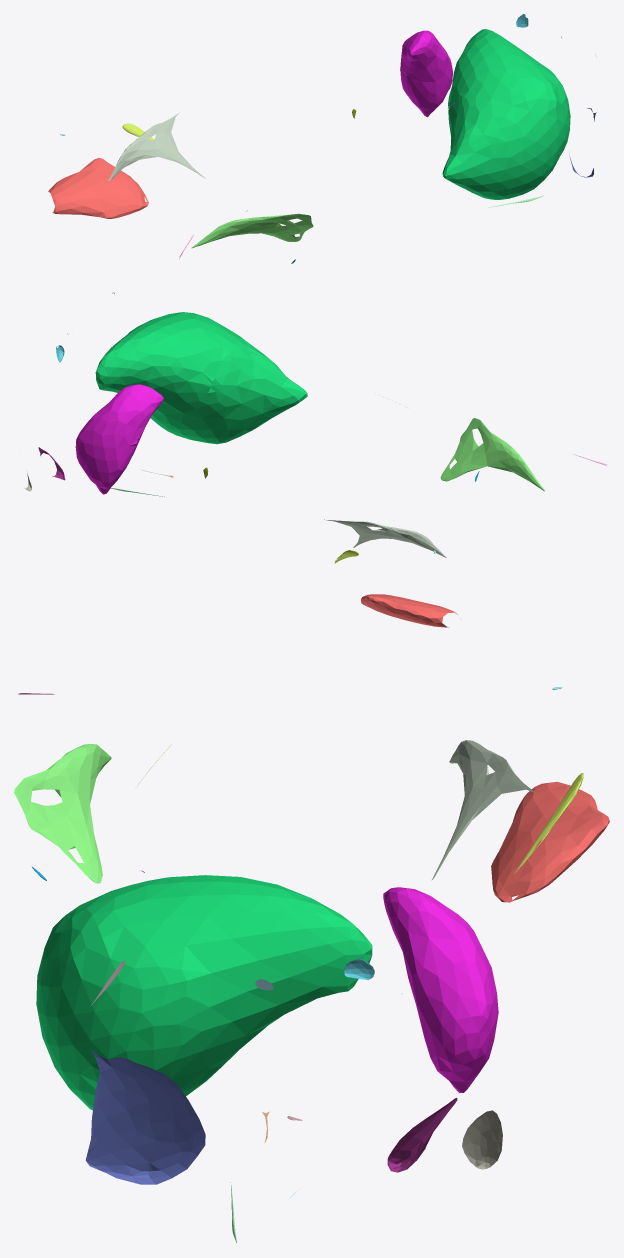
The picture shows the model from 3 angles, top to bottom: view 1: azimuth 30°, elevation 25°; view 2: azimuth 150°, elevation 25°; view 3: azimuth 270°, elevation 25°; orthographic projection. The views are drawn at different scales.
Visible parts, largest first — view 1: world; view 2: world; view 3: world.
Boxes of the visible parts, left/top/right/bottom form: world: left=48, top=14, right=596, bottom=263; world: left=24, top=292, right=607, bottom=627; world: left=14, top=687, right=609, bottom=1242.
Bounding box in the file's own units: 239 × 78.82 × 136.
